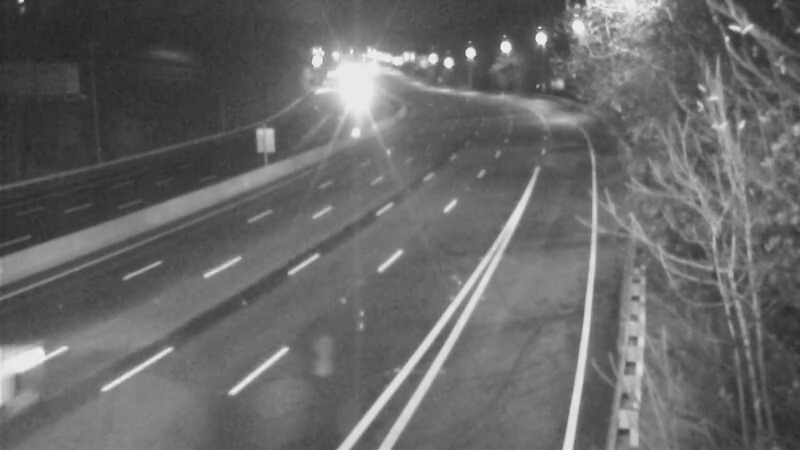vehicle: (1, 320, 90, 430)
